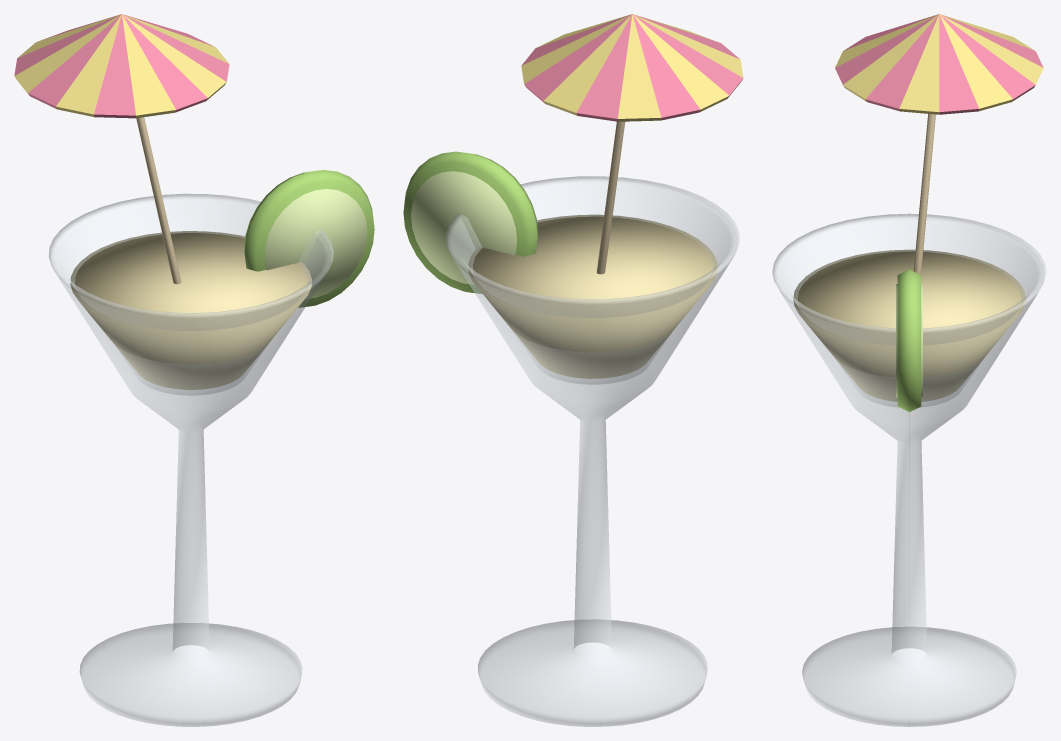
Rendered from cocktail.glb.
3 views of the same model, side by side, from view 1: azimuth 30°, elevation 25°; view 2: azimuth 150°, elevation 25°; view 3: azimuth 270°, elevation 25° (orthographic). The views are drawn at different scales.
Parts seen in each view (by area): view 1: cocktail; view 2: cocktail; view 3: cocktail.
Part boxes in pixels (x1=…): cocktail: x1=14, y1=14, x2=374, y2=726; cocktail: x1=403, y1=14, x2=743, y2=726; cocktail: x1=772, y1=14, x2=1046, y2=726.
Bounding box in the file's own units: 0.123 × 0.238 × 0.092.
